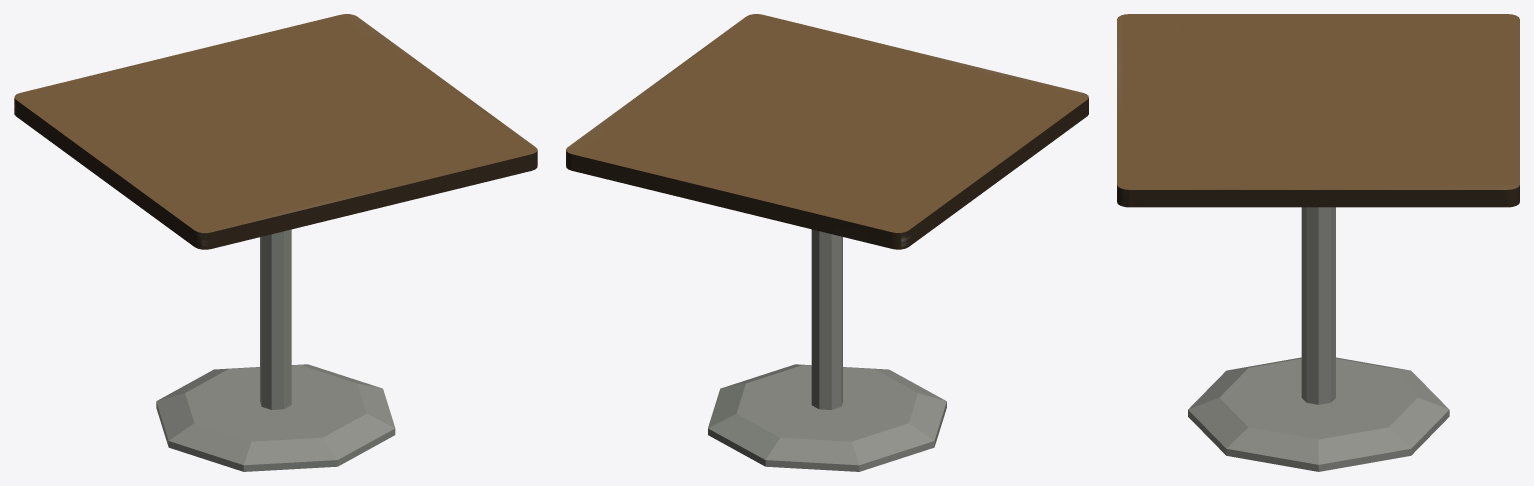
The model's file is Masa.fbx.
3 views of the same model, side by side, from view 1: azimuth 30°, elevation 25°; view 2: azimuth 150°, elevation 25°; view 3: azimuth 270°, elevation 25° (orthographic). The views are drawn at different scales.
Visible parts, largest first — view 1: Cylinder.007; view 2: Cylinder.007; view 3: Cylinder.007.
Boxes of the visible parts, x1,y1,x2,y2 form: Cylinder.007: (14, 14, 537, 471); Cylinder.007: (566, 14, 1088, 471); Cylinder.007: (1117, 14, 1519, 471).
Bounding box in the file's own units: 474 × 395 × 459.
1 material, 1 textured.
